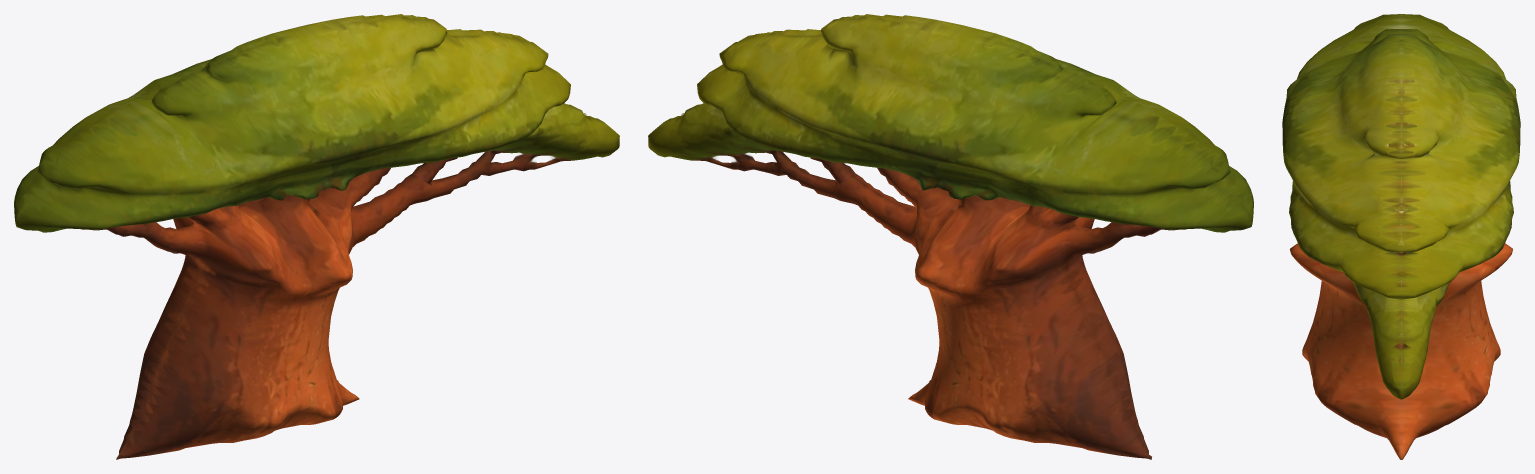
File: 02_acacia_trees_r00_c00.glb
3 renders of one model, left to right at view 1: azimuth 30°, elevation 25°; view 2: azimuth 150°, elevation 25°; view 3: azimuth 270°, elevation 25°, orthographic. The views are drawn at different scales.
Visible parts, largest first — view 1: 02_acacia_trees_r00_c00; view 2: 02_acacia_trees_r00_c00; view 3: 02_acacia_trees_r00_c00.
Part boxes in pixels (x1,y1,x2,y2): 02_acacia_trees_r00_c00: (14,14,619,459); 02_acacia_trees_r00_c00: (648,14,1253,459); 02_acacia_trees_r00_c00: (1282,14,1520,459).
Bounding box in the file's own units: 6.27 × 3.79 × 2.2.
Materials: 1 (1 with a texture image).
